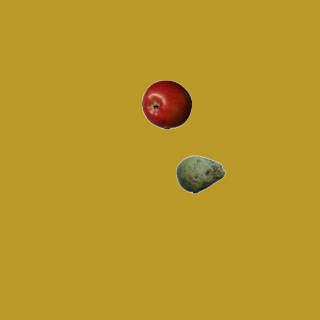Apple Braeburn: (141, 79, 191, 129)
Pear Stone: (175, 149, 225, 199)
